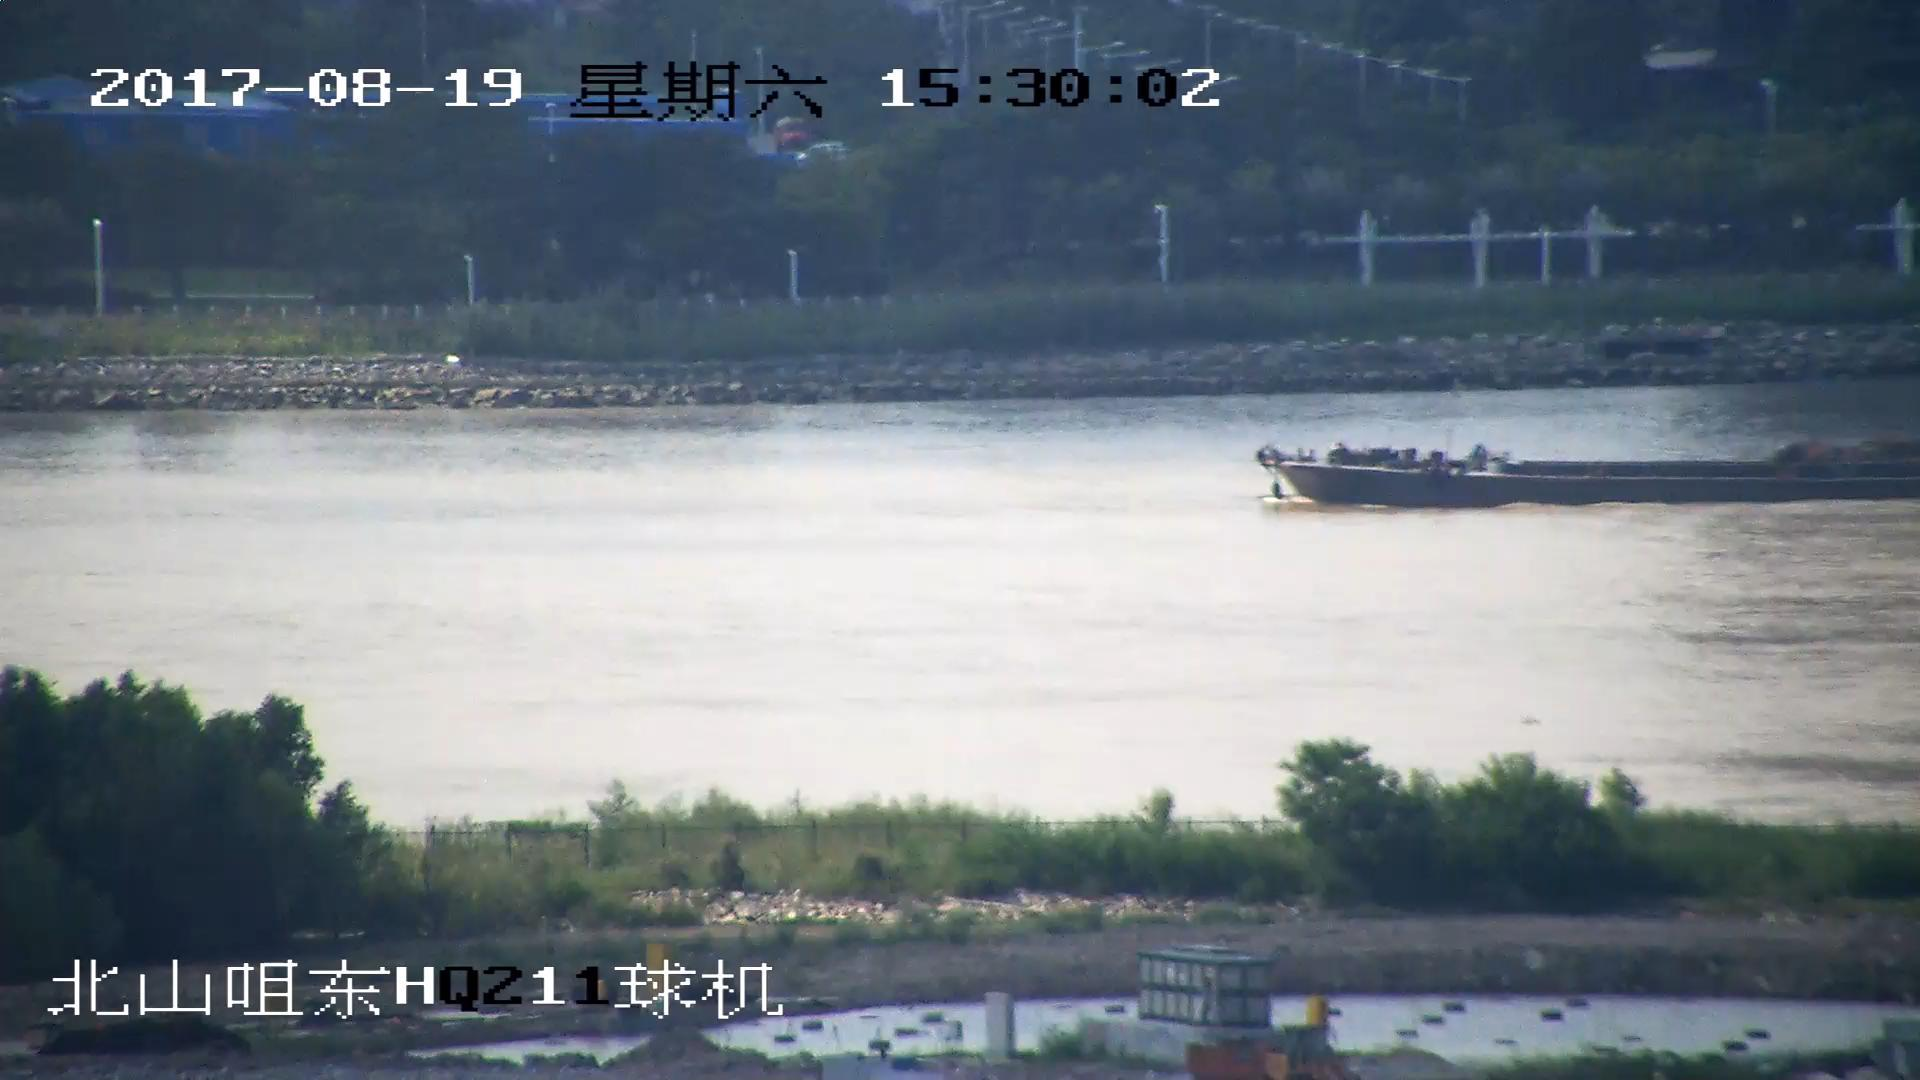Ship: (1245, 431, 1920, 513)
